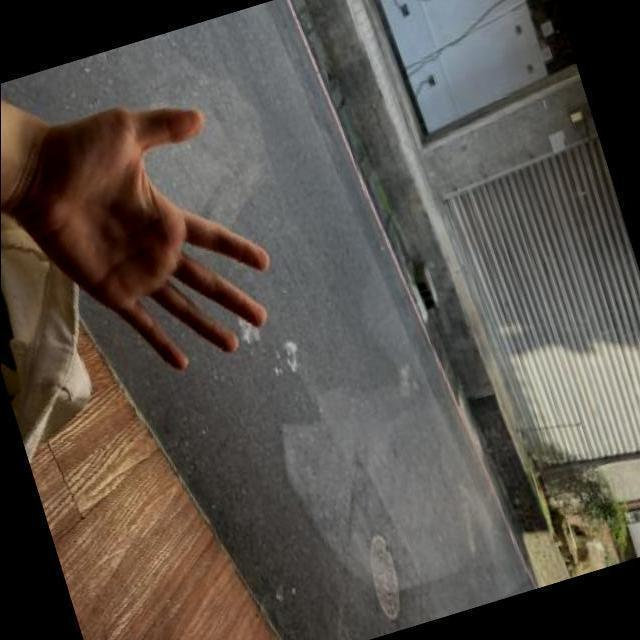hand: (0, 59, 308, 424)
